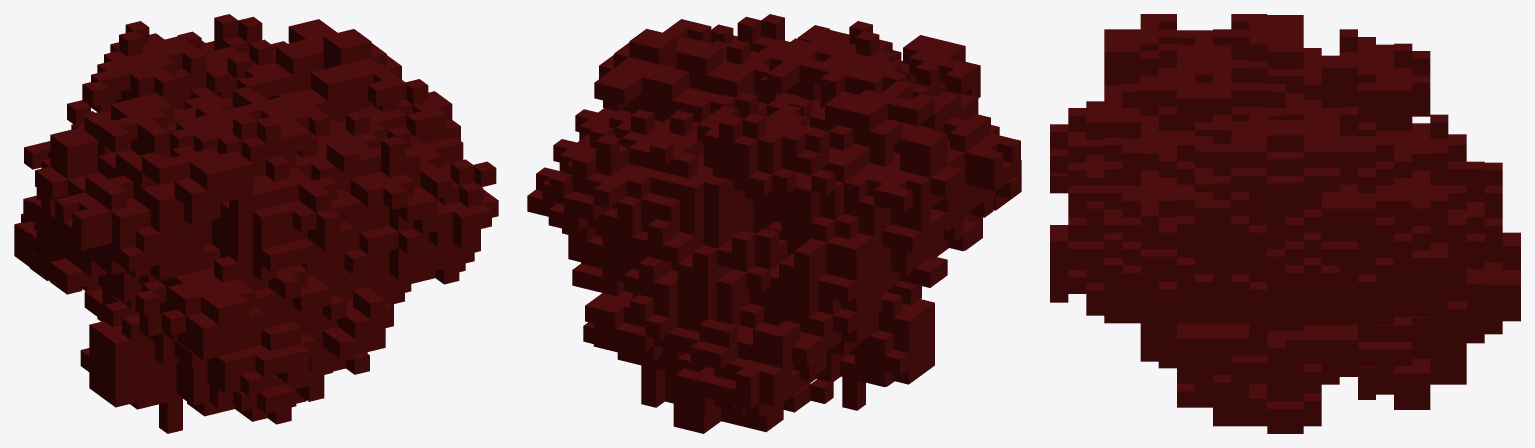
The model's file is bad-7.obj.
3 views of the same model, side by side, from view 1: azimuth 30°, elevation 25°; view 2: azimuth 150°, elevation 25°; view 3: azimuth 270°, elevation 25° (orthographic). The views are drawn at different scales.
Size of the model in its own units: 2.6 by 2.1 by 2.6.
Materials: 1 (1 with a texture image).
